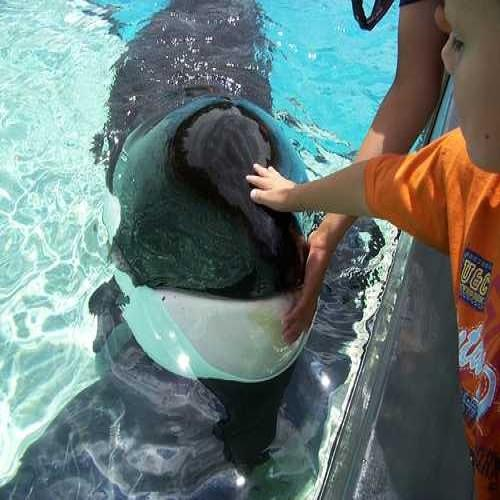killer_whale-endangered: (98, 86, 358, 414)
